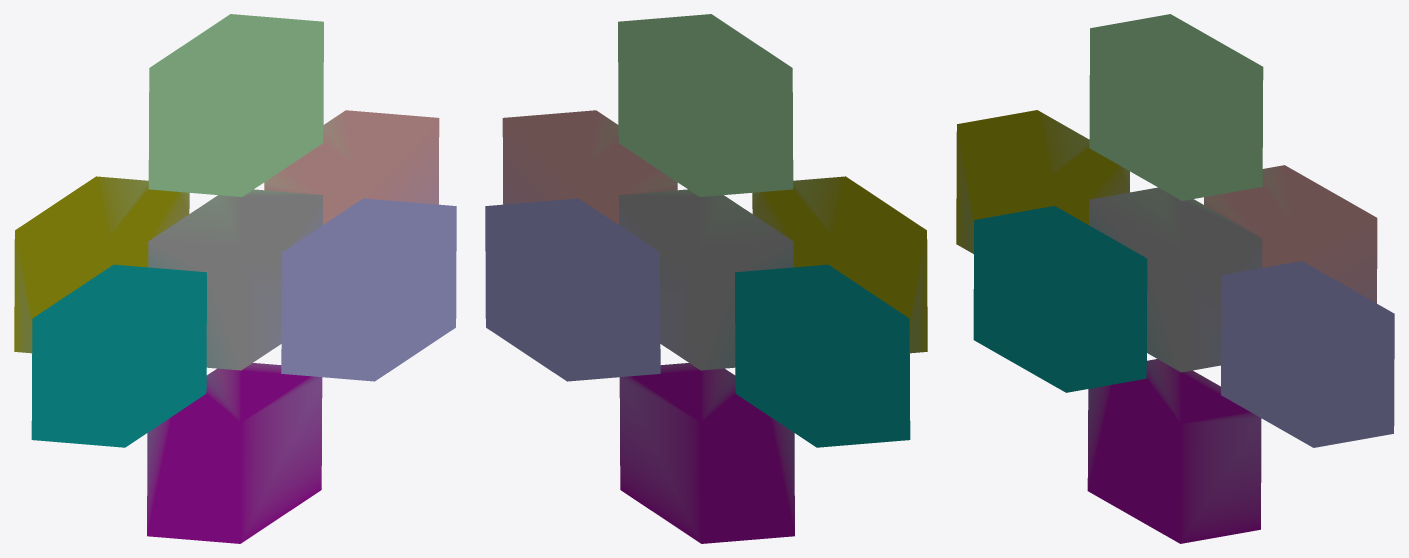
Rendered from nav.glb.
3 renders of one model, left to right at view 1: azimuth 30°, elevation 25°; view 2: azimuth 150°, elevation 25°; view 3: azimuth 330°, elevation 25°, orthographic.
Parts seen in each view (by area): view 1: pack2 (×7); view 2: pack2 (×7); view 3: pack2 (×7).
Boxes of the visible parts, x1,y1,x2,y2 form: pack2 (×7): (14,14,456,543); pack2 (×7): (485,14,927,543); pack2 (×7): (956,14,1394,543).
Size of the model in its own units: 0.3876 by 0.4456 by 0.
